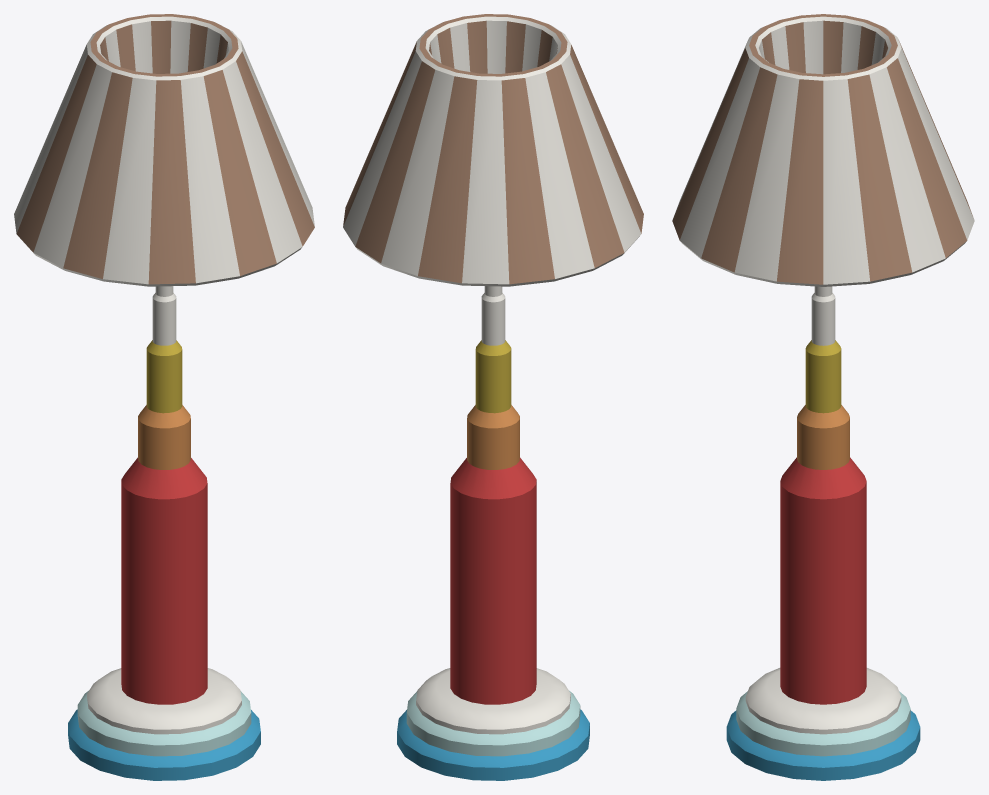
File: FLOORLAMP.fbx
The picture shows the model from 3 angles, left to right: view 1: azimuth 30°, elevation 25°; view 2: azimuth 150°, elevation 25°; view 3: azimuth 270°, elevation 25°; orthographic projection.
Parts seen in each view (by area): view 1: FLOORLAMP; view 2: FLOORLAMP; view 3: FLOORLAMP.
Boxes of the visible parts, x1,y1,x2,y2 form: FLOORLAMP: [14, 14, 314, 780]; FLOORLAMP: [343, 14, 643, 780]; FLOORLAMP: [672, 14, 974, 780].
Bounding box in the file's own units: 7.67 × 19.43 × 7.67.
